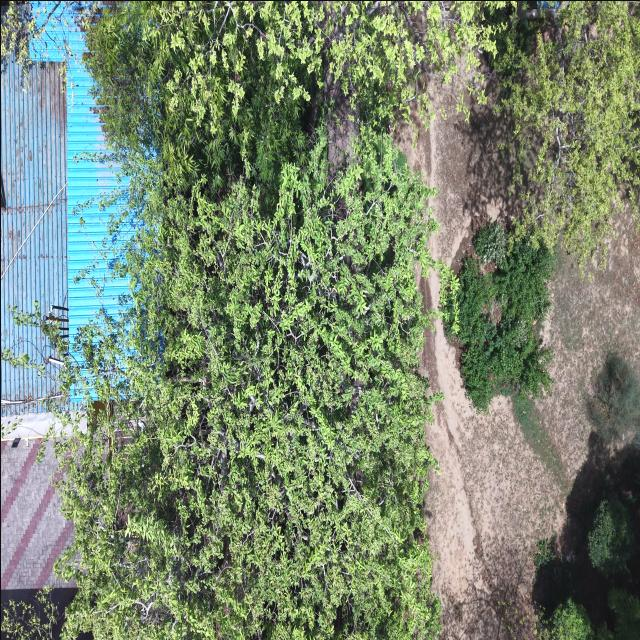DRY_AREA: (421, 212, 639, 639), (421, 322, 557, 638), (536, 208, 639, 478), (1, 439, 73, 593)
ROOFTOP_BUILDING: (1, 13, 125, 598), (1, 13, 125, 416), (1, 60, 67, 415), (64, 20, 126, 335), (1, 439, 75, 612), (1, 439, 72, 590)
VEGETATION_TREE: (55, 1, 639, 639), (57, 3, 485, 639), (59, 131, 439, 639), (443, 1, 639, 409), (448, 1, 639, 408), (87, 1, 493, 189), (1, 1, 506, 119), (86, 1, 317, 201), (493, 1, 639, 269), (535, 355, 639, 639), (533, 435, 639, 639), (444, 224, 552, 410), (491, 241, 552, 395), (1, 1, 89, 91), (1, 1, 72, 76), (536, 589, 639, 639), (537, 590, 639, 639), (588, 354, 639, 440), (512, 395, 564, 478), (588, 497, 635, 579), (588, 497, 633, 576), (1, 588, 61, 639), (1, 1, 44, 69), (541, 599, 593, 639), (597, 590, 639, 639), (473, 222, 505, 268)
